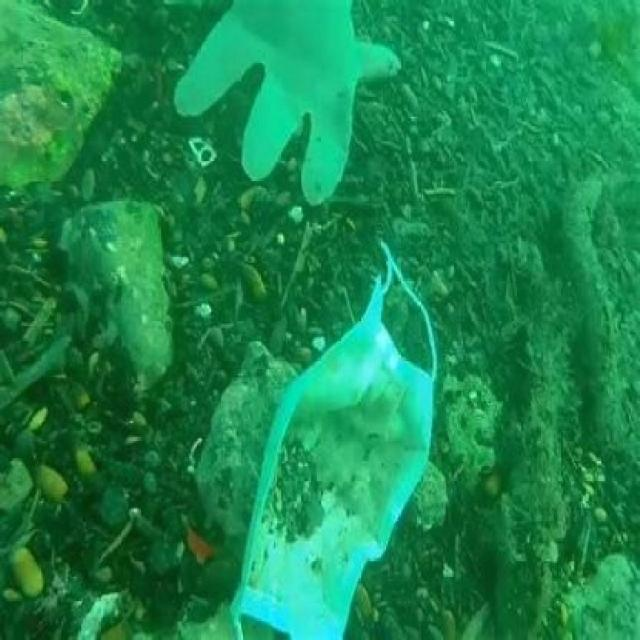Mask: (237, 236, 448, 638)
glove: (170, 0, 401, 214)
